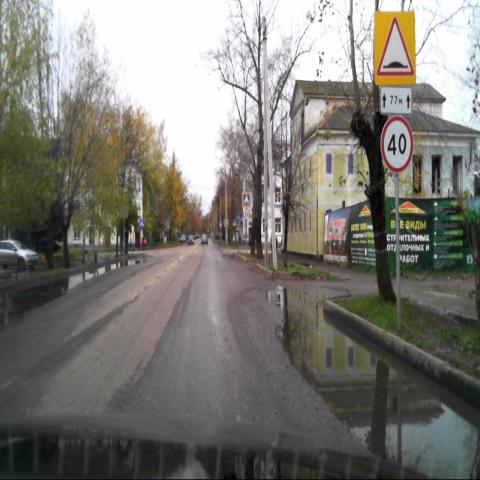1_17: (374, 6, 416, 85)
3_24: (380, 114, 414, 174)
8_2_1: (380, 87, 412, 114)
